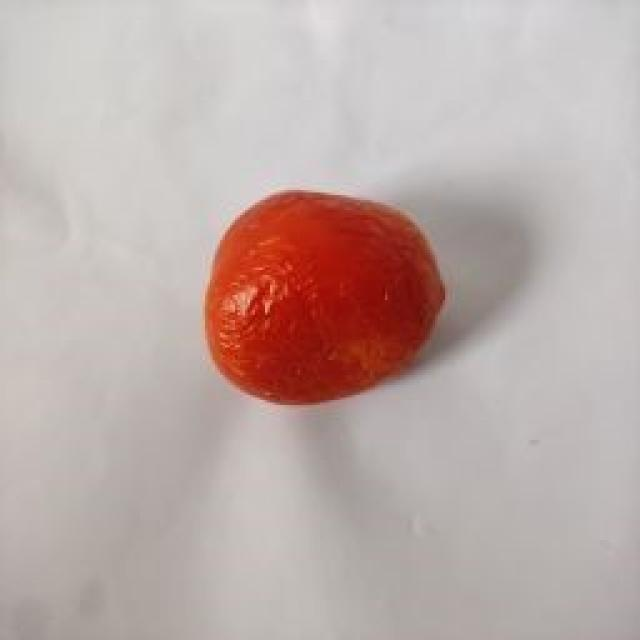overripe: (194, 184, 446, 409)
